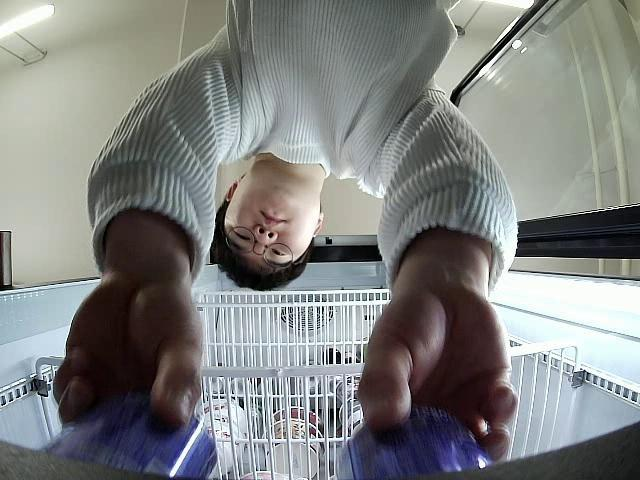14_welchsGrape: (36, 395, 218, 480), (334, 403, 490, 480)
